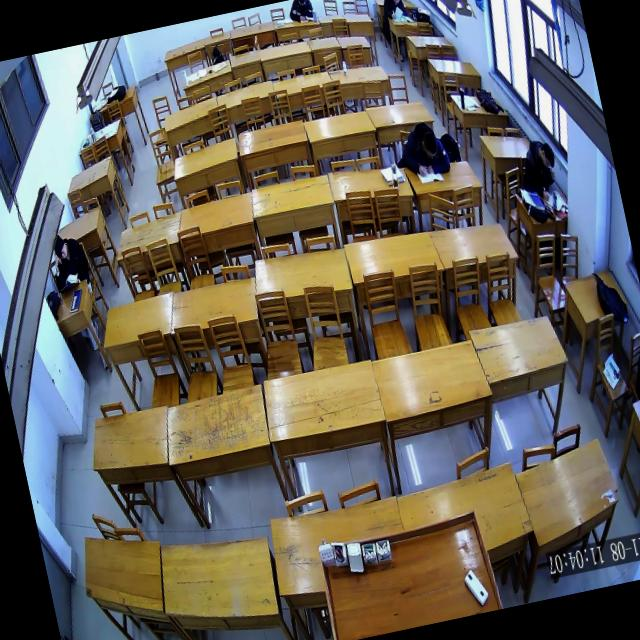bow: (393, 115, 452, 182)
down: (536, 139, 558, 174), (418, 130, 441, 162), (51, 233, 70, 264), (389, 0, 402, 6)
sit: (515, 136, 563, 206), (44, 228, 93, 294), (379, 0, 409, 23)
